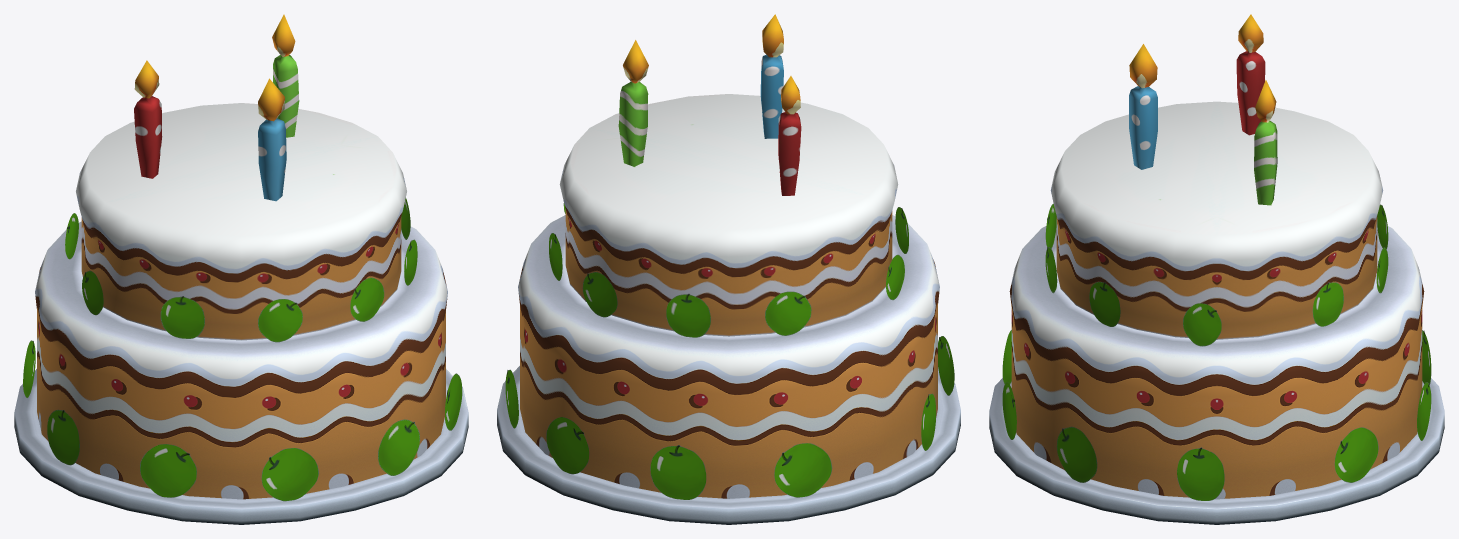
File: Cake.fbx
3 views of the same model, side by side, from view 1: azimuth 30°, elevation 25°; view 2: azimuth 150°, elevation 25°; view 3: azimuth 270°, elevation 25° (orthographic). The views are drawn at different scales.
Visible parts, largest first — view 1: 037; view 2: 037; view 3: 037.
Boxes of the visible parts, box(x1,y1,x2,y2) form: 037: box(14, 14, 468, 524); 037: box(497, 14, 960, 524); 037: box(989, 14, 1444, 524).
Size of the model in its own units: 45.21 by 41.04 by 44.52.
1 material, 1 textured.
